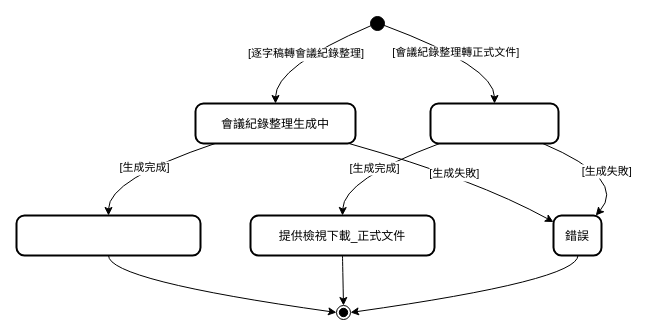
Image size: 650x336. Some labels were removed from this diagram. The shapes that lost their labels are listed below. From the top down, each one's centre as x and y in pixels, then its label:
At [494,123]: "正式文件生成中".
At [108,235]: "提供檢視下載_紀錄整理".
